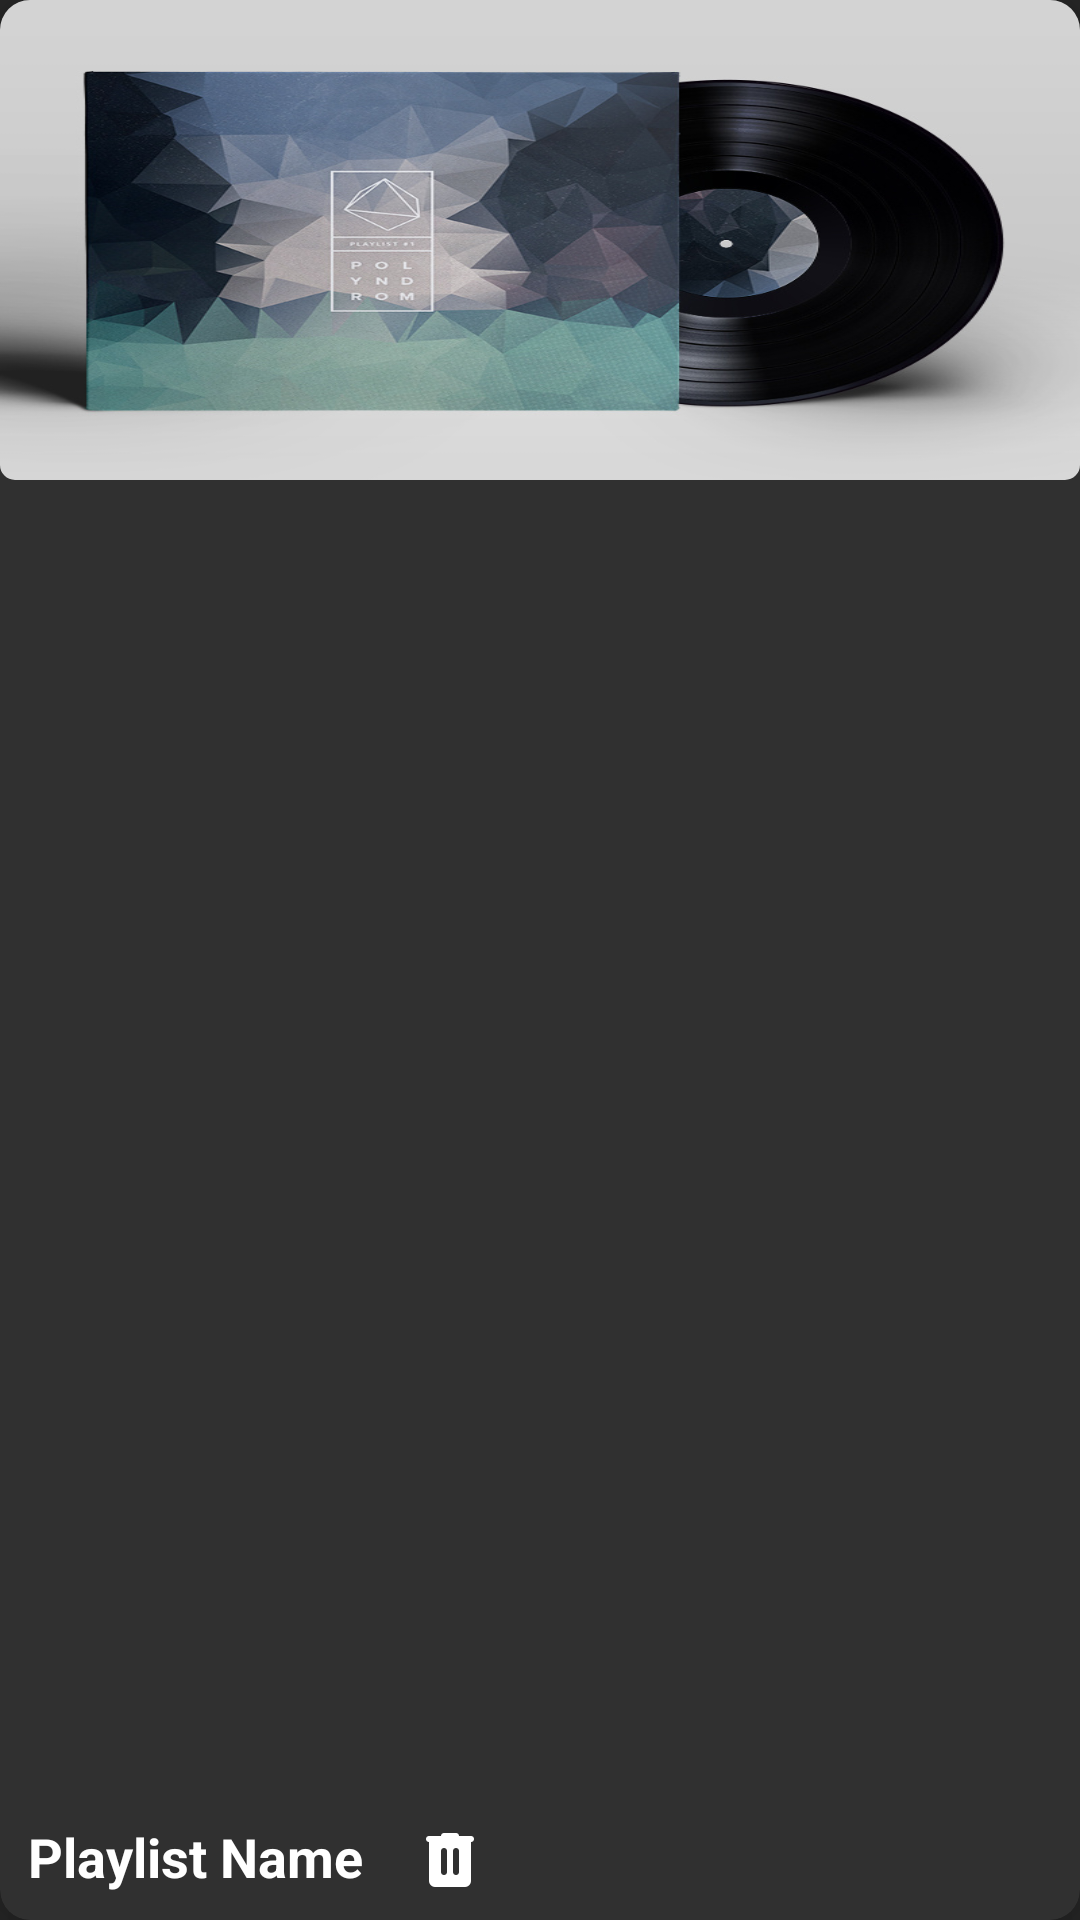

Named icons in this screenshot (1080*1920) and their centers, (x=x, y=y):
delete: (x=450, y=1860)
